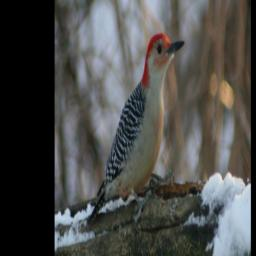Woodpecker: (88, 33, 187, 223)
